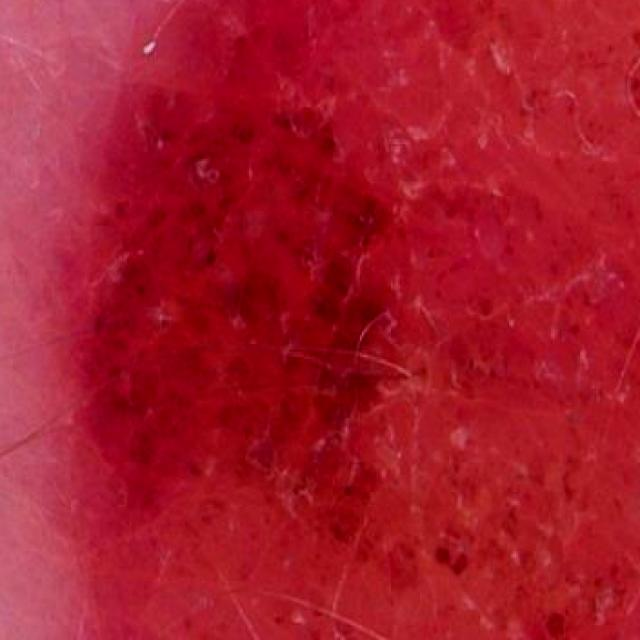NV: (25, 0, 640, 640)
